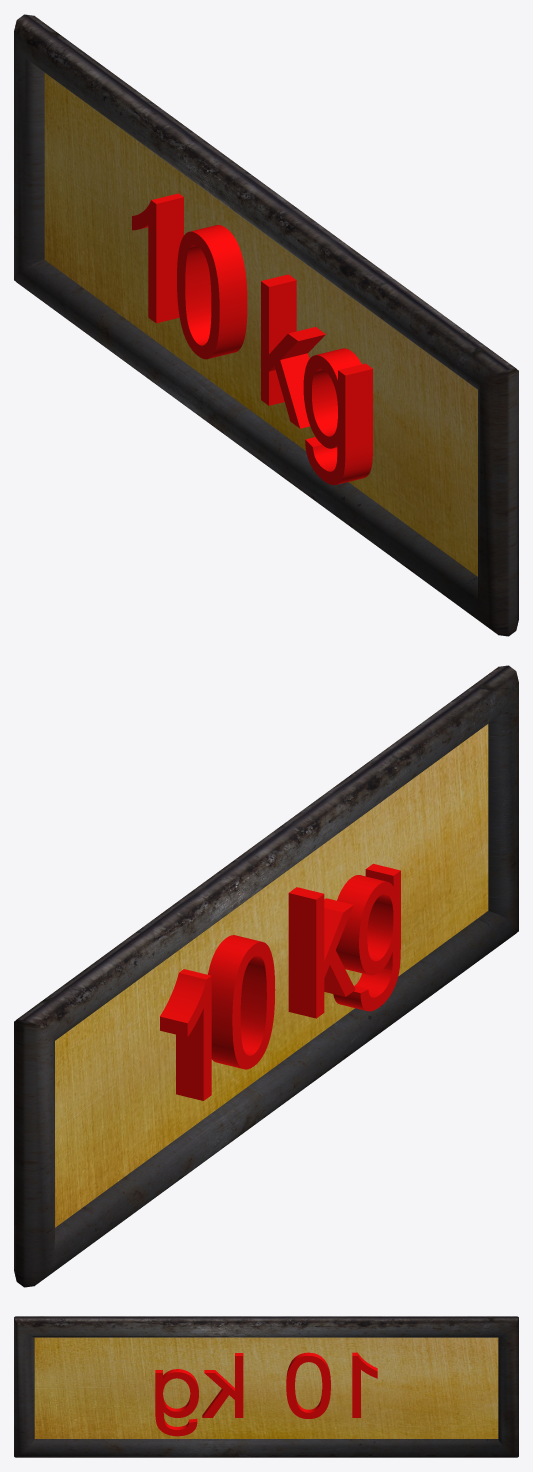
The picture shows the model from 3 angles, top to bottom: view 1: azimuth 30°, elevation 25°; view 2: azimuth 150°, elevation 25°; view 3: azimuth 270°, elevation 25°; orthographic projection. The views are drawn at different scales.
Visible parts, largest first — view 1: 图形001, Box003, 加强型文本005; view 2: 图形001, Box003, 加强型文本005; view 3: Box003, 图形001, 加强型文本005.
Boxes of the visible parts, x1=… form: 图形001: x1=14, y1=14, x2=518, y2=636; Box003: x1=44, y1=73, x2=477, y2=576; 加强型文本005: x1=132, y1=193, x2=372, y2=485; 图形001: x1=14, y1=665, x2=518, y2=1287; Box003: x1=55, y1=724, x2=488, y2=1227; 加强型文本005: x1=160, y1=863, x2=400, y2=1100; Box003: x1=34, y1=1337, x2=498, y2=1438; 图形001: x1=14, y1=1316, x2=518, y2=1457; 加强型文本005: x1=155, y1=1352, x2=377, y2=1436.
Bounding box in the file's own units: 1.03 × 5.77 × 18.94.
Materials: 3 (2 with a texture image).
